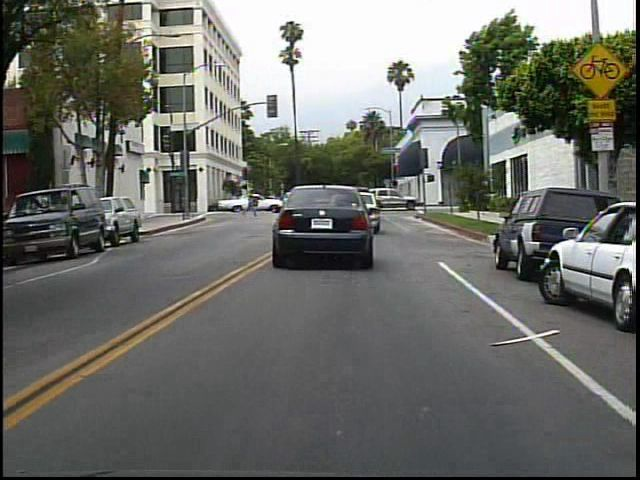person: (245, 190, 259, 219)
